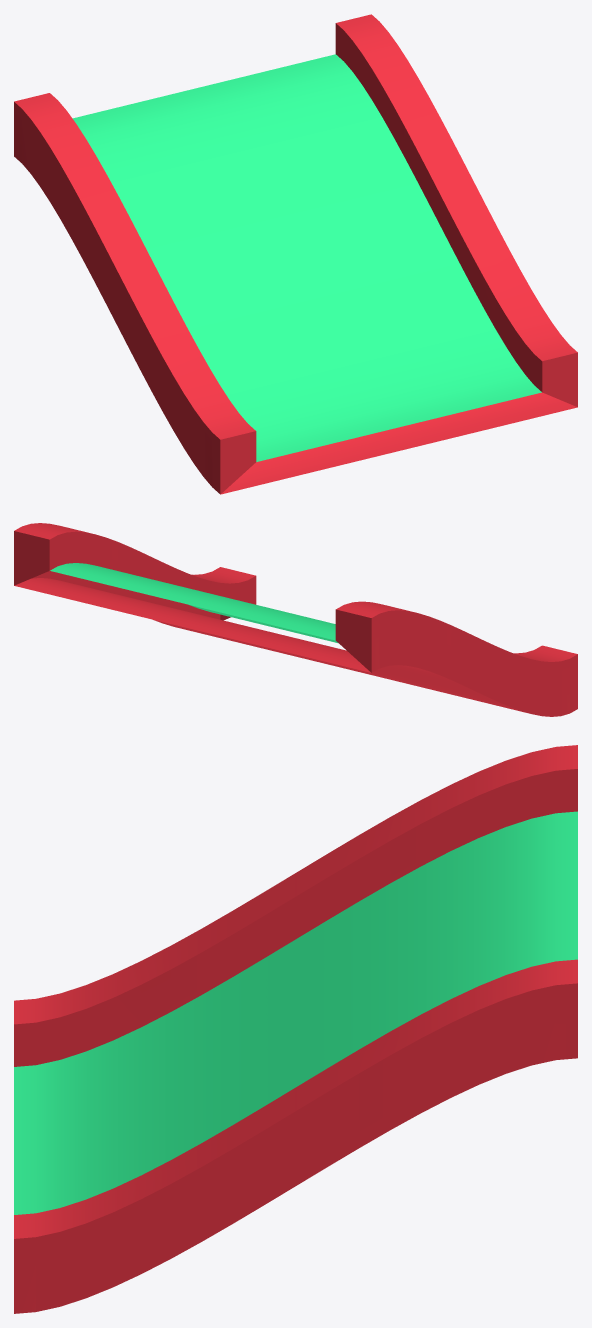
File: ramp.fbx
3 renders of one model, top to bottom at view 1: azimuth 30°, elevation 25°; view 2: azimuth 150°, elevation 25°; view 3: azimuth 270°, elevation 25°, orthographic. The views are drawn at different scales.
Parts seen in each view (by area): view 1: ramp; view 2: ramp; view 3: ramp.
Part boxes in pixels (x1,y1,x2,y2): ramp: (14,14,577,494); ramp: (14,523,577,716); ramp: (14,745,577,1313).
Bounding box in the file's own units: 99.99 × 99.99 × 64.67.
